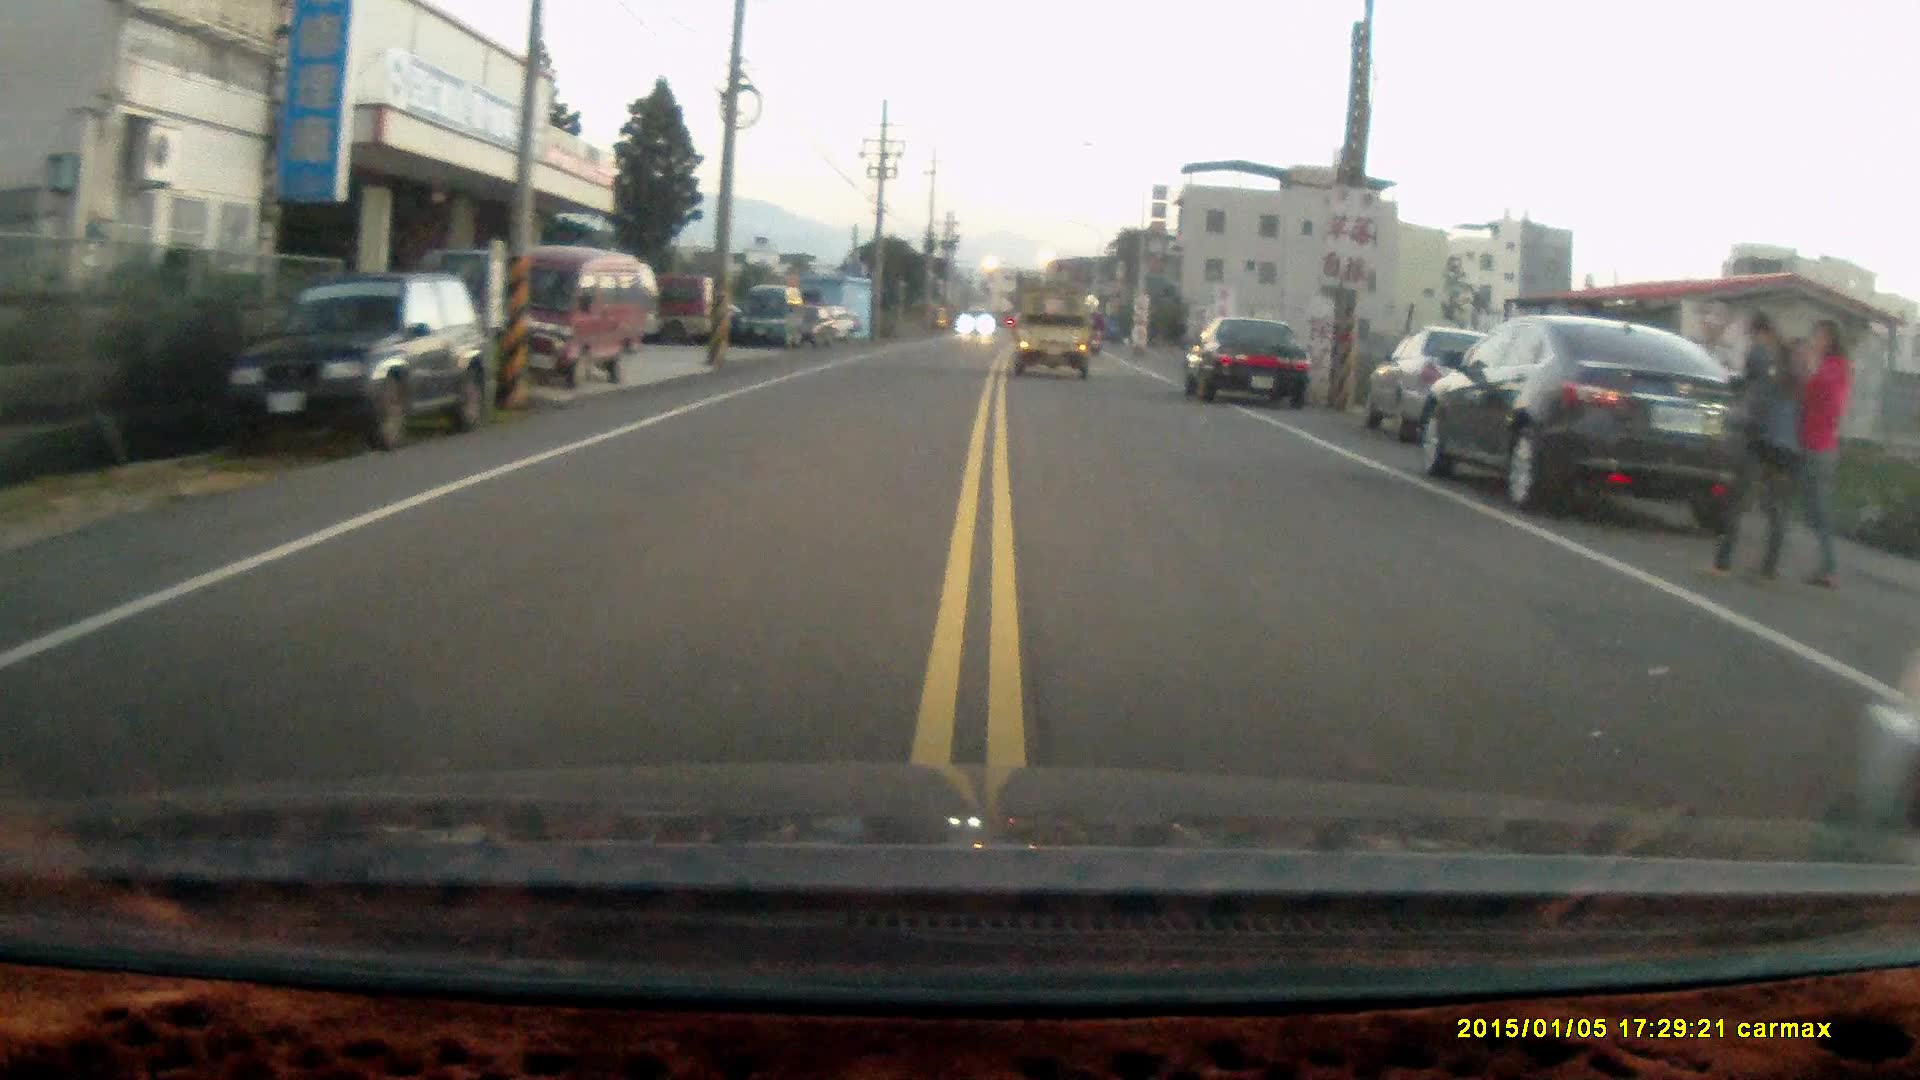pedestrian: (1702, 308, 1800, 585), (1775, 316, 1851, 587)
vehicle: (1418, 317, 1787, 531), (232, 266, 493, 455), (475, 247, 657, 383), (1359, 329, 1508, 445), (1179, 309, 1313, 408), (1014, 291, 1097, 379), (735, 284, 807, 349)
